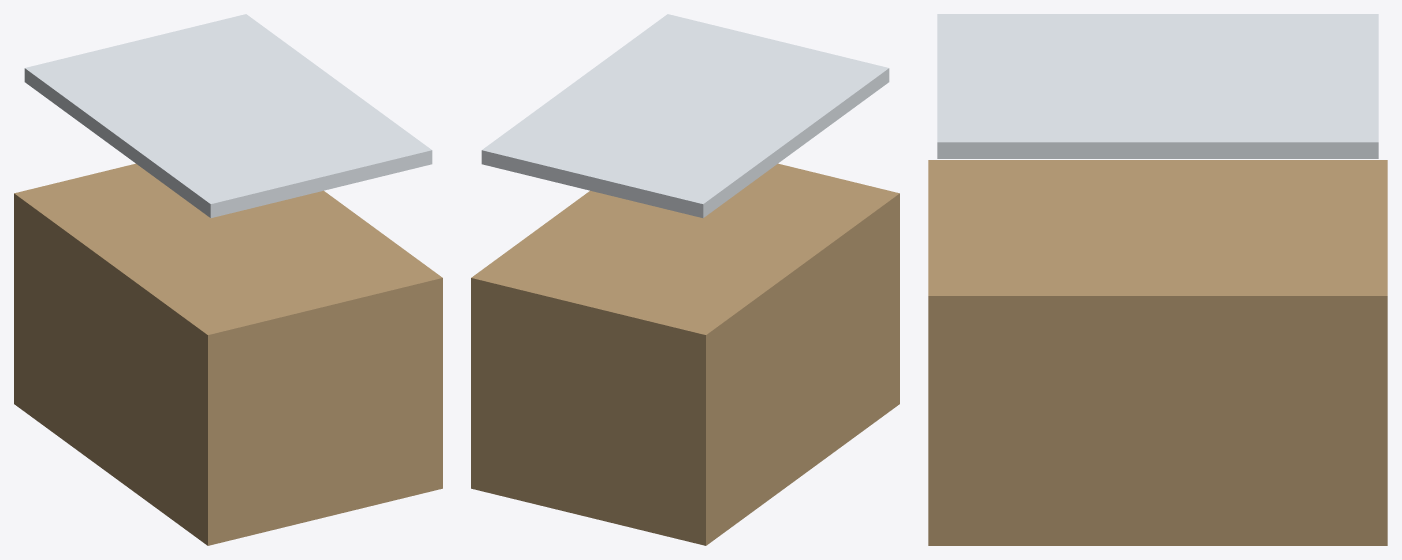
Rendered from Display_Case_1.glb.
The picture shows the model from 3 angles, left to right: view 1: azimuth 30°, elevation 25°; view 2: azimuth 150°, elevation 25°; view 3: azimuth 270°, elevation 25°; orthographic projection. The views are drawn at different scales.
Parts seen in each view (by area): view 1: Display_Case_1; view 2: Display_Case_1; view 3: Display_Case_1.
Boxes of the visible parts, x1,y1,x2,y2 form: Display_Case_1: (14,14,442,545); Display_Case_1: (471,14,899,545); Display_Case_1: (928,14,1387,545).
Size of the model in its own units: 0.35 by 0.48 by 0.5.
